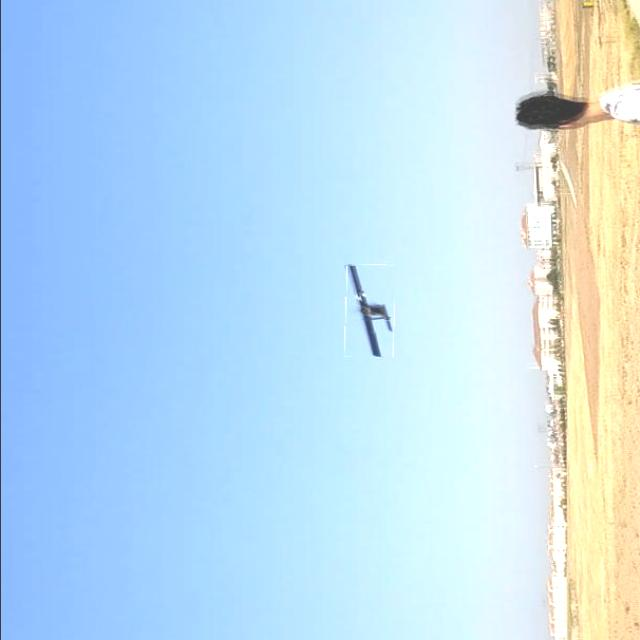plane: (341, 261, 394, 358)
